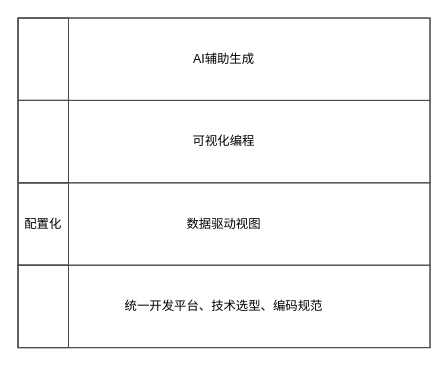
This 448x366 diagram has some shape labels left out. The shapes that lost their labels are listed below. From the top down, each one's centre as x and y in pixels, then its label:
At point 42,58: "智慧化".
At point 42,141: "可视化".
At point 42,306: "标准化".
